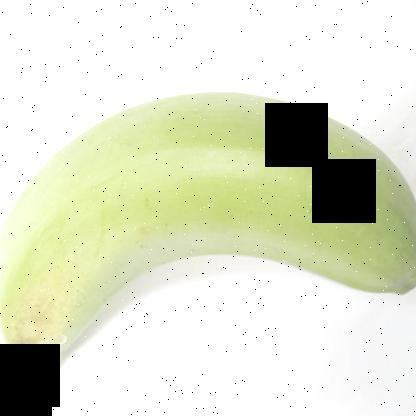freshunripe: (0, 65, 415, 395)
